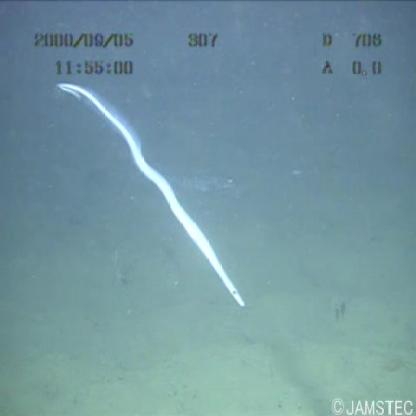Bio: (52, 79, 257, 320)
